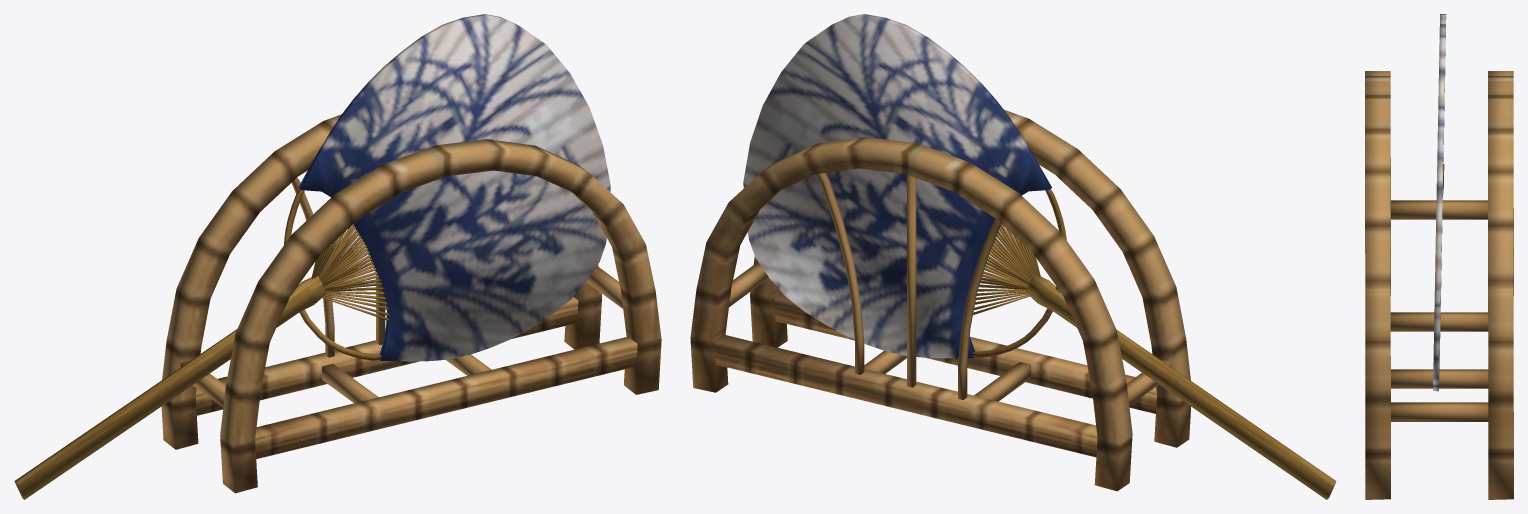
File: Uchiwa1.b.fbx
3 renders of one model, left to right at view 1: azimuth 30°, elevation 25°; view 2: azimuth 150°, elevation 25°; view 3: azimuth 270°, elevation 25°, orthographic. The views are drawn at different scales.
Parts seen in each view (by area): view 1: Group 0; view 2: Group 0; view 3: Group 0.
Boxes of the visible parts, left/top/right/bottom form: Group 0: left=14, top=14, right=661, bottom=499; Group 0: left=690, top=14, right=1336, bottom=499; Group 0: left=1365, top=14, right=1513, bottom=499.
Bounding box in the file's own units: 46.77 × 28.04 × 9.57.
1 material, 1 textured.
